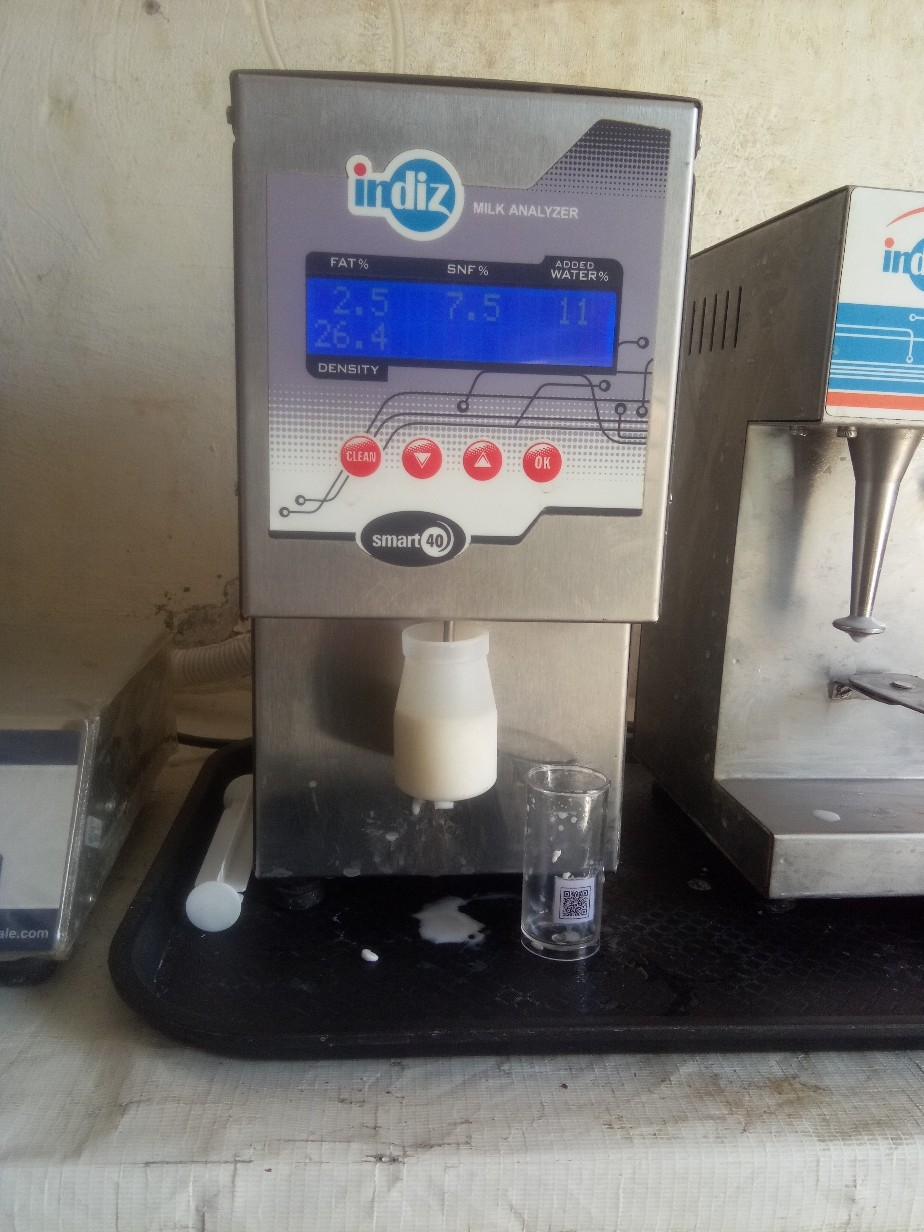lcd: (291, 276, 654, 380)
qr: (548, 878, 606, 940)
